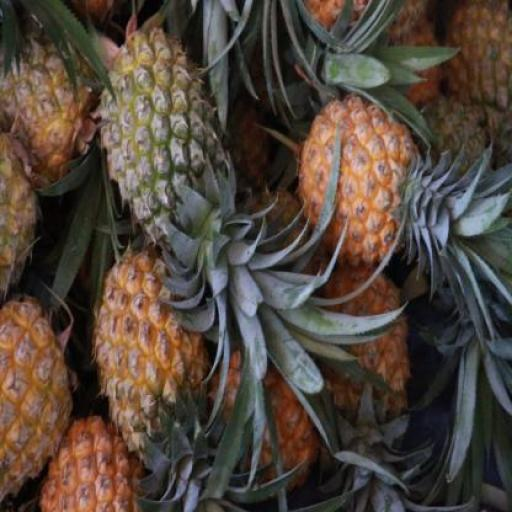------------------------------: (98, 24, 228, 247), (0, 18, 100, 184)
Pineapple - v8 v1: (94, 245, 210, 443), (296, 94, 417, 278), (0, 301, 70, 500), (38, 408, 145, 511)
